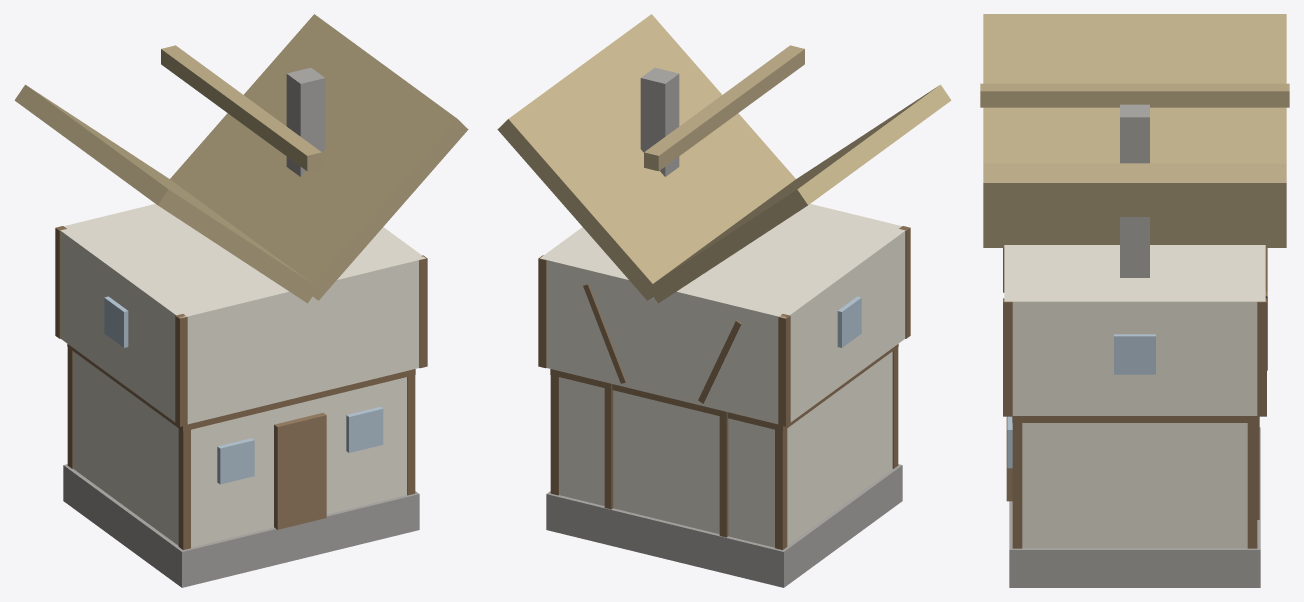
Rendered from house2.glb.
3 views of the same model, side by side, from view 1: azimuth 30°, elevation 25°; view 2: azimuth 150°, elevation 25°; view 3: azimuth 270°, elevation 25° (orthographic). The views are drawn at different scales.
Parts seen in each view (by area): view 1: House2; view 2: House2; view 3: House2.
Boxes of the visible parts, x1=… form: House2: x1=14, y1=14, x2=468, y2=587; House2: x1=497, y1=14, x2=951, y2=587; House2: x1=980, y1=14, x2=1289, y2=587.
Bounding box in the file's own units: 6.33 × 8.25 × 5.16.
